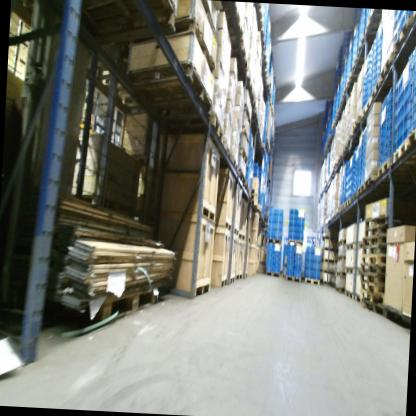pallet: (51, 280, 167, 340), (120, 58, 215, 117), (122, 15, 218, 71), (56, 0, 182, 42), (150, 108, 223, 146), (378, 46, 411, 84), (376, 156, 416, 184), (391, 14, 416, 58), (220, 1, 245, 41), (389, 134, 416, 169), (365, 212, 406, 231), (371, 77, 395, 104), (230, 41, 247, 73), (363, 220, 392, 238), (358, 287, 387, 303), (365, 13, 383, 38), (361, 241, 389, 257), (358, 33, 378, 55), (358, 269, 385, 285), (361, 301, 387, 317), (359, 261, 387, 275), (364, 168, 381, 191), (349, 52, 368, 72), (361, 252, 388, 266), (361, 232, 389, 245), (250, 4, 265, 26), (358, 279, 385, 291), (404, 124, 416, 151), (360, 95, 373, 119), (343, 70, 359, 88), (244, 71, 255, 97), (224, 156, 239, 173), (256, 26, 266, 51), (249, 102, 259, 125), (257, 66, 269, 85), (259, 49, 269, 71), (347, 128, 359, 146), (287, 236, 305, 248), (340, 88, 352, 104), (237, 179, 250, 193), (352, 117, 361, 137), (284, 274, 303, 283), (238, 149, 248, 166), (303, 275, 320, 285), (235, 169, 246, 184), (241, 126, 250, 144), (265, 269, 283, 278), (262, 134, 271, 152), (260, 86, 273, 98), (254, 140, 263, 155), (357, 181, 365, 197), (266, 236, 282, 244), (220, 147, 232, 157), (331, 117, 341, 129), (351, 190, 358, 205), (322, 141, 332, 151), (326, 133, 335, 144), (343, 142, 351, 154), (267, 135, 275, 147), (335, 103, 345, 112), (337, 238, 345, 249), (344, 196, 351, 208), (249, 188, 259, 196), (334, 285, 344, 293), (250, 199, 258, 208), (257, 211, 264, 221), (335, 113, 342, 123), (256, 201, 263, 210), (338, 201, 344, 211), (411, 11, 416, 23), (336, 271, 346, 277), (266, 97, 272, 107), (247, 187, 252, 197), (338, 255, 346, 261), (253, 268, 260, 274), (269, 105, 274, 113), (256, 240, 260, 249), (251, 194, 258, 199), (257, 209, 261, 216)
small_load_carrier: (377, 134, 392, 159), (404, 86, 416, 114), (379, 87, 394, 109), (377, 99, 391, 122), (405, 105, 416, 133), (378, 117, 391, 140), (377, 145, 389, 166), (406, 44, 416, 69), (379, 126, 392, 145), (381, 110, 393, 129), (406, 62, 416, 82), (407, 74, 416, 95), (273, 229, 283, 238), (303, 267, 312, 277), (303, 260, 312, 269), (312, 269, 321, 278), (312, 261, 321, 270), (266, 229, 276, 237), (288, 212, 298, 220), (297, 210, 305, 220), (285, 268, 295, 276), (273, 222, 282, 230), (267, 214, 276, 222), (268, 206, 276, 215), (313, 252, 321, 261), (295, 247, 304, 255), (294, 268, 302, 277), (286, 246, 294, 255), (273, 245, 282, 253), (305, 245, 313, 253), (285, 260, 293, 268), (266, 252, 274, 260), (296, 225, 305, 232), (304, 253, 313, 260), (294, 255, 303, 262), (293, 262, 302, 269), (275, 209, 283, 216), (275, 215, 283, 222), (296, 231, 304, 238), (273, 253, 281, 260), (267, 223, 275, 229), (288, 225, 296, 231), (288, 231, 296, 237), (296, 220, 304, 226), (265, 263, 273, 269), (266, 242, 274, 248), (288, 219, 296, 224), (286, 255, 294, 260), (273, 260, 281, 265), (272, 266, 280, 271), (265, 258, 273, 263), (266, 248, 274, 253), (289, 209, 297, 213)
